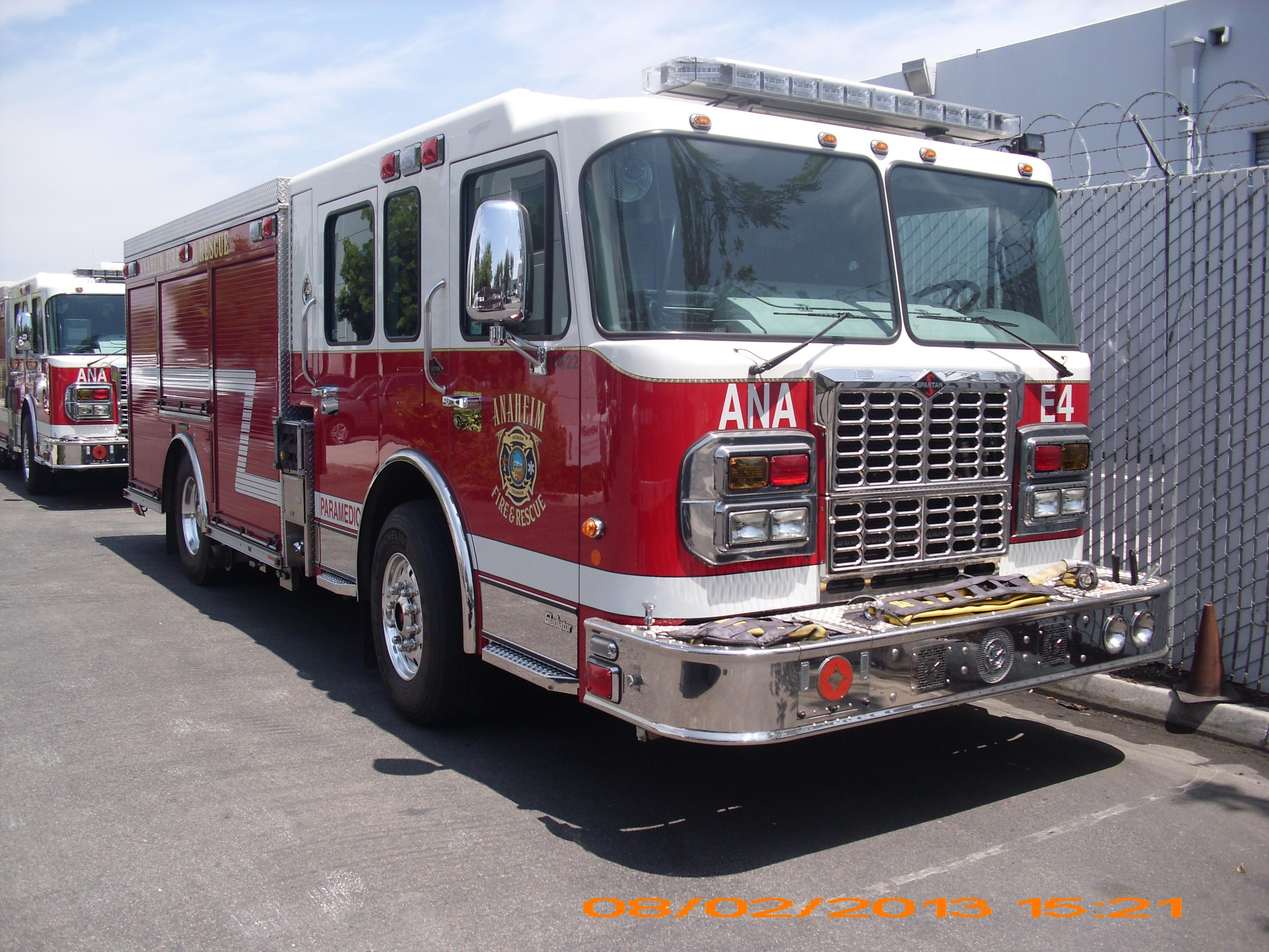Fire-engine: (120, 54, 1173, 747), (0, 263, 129, 494)
